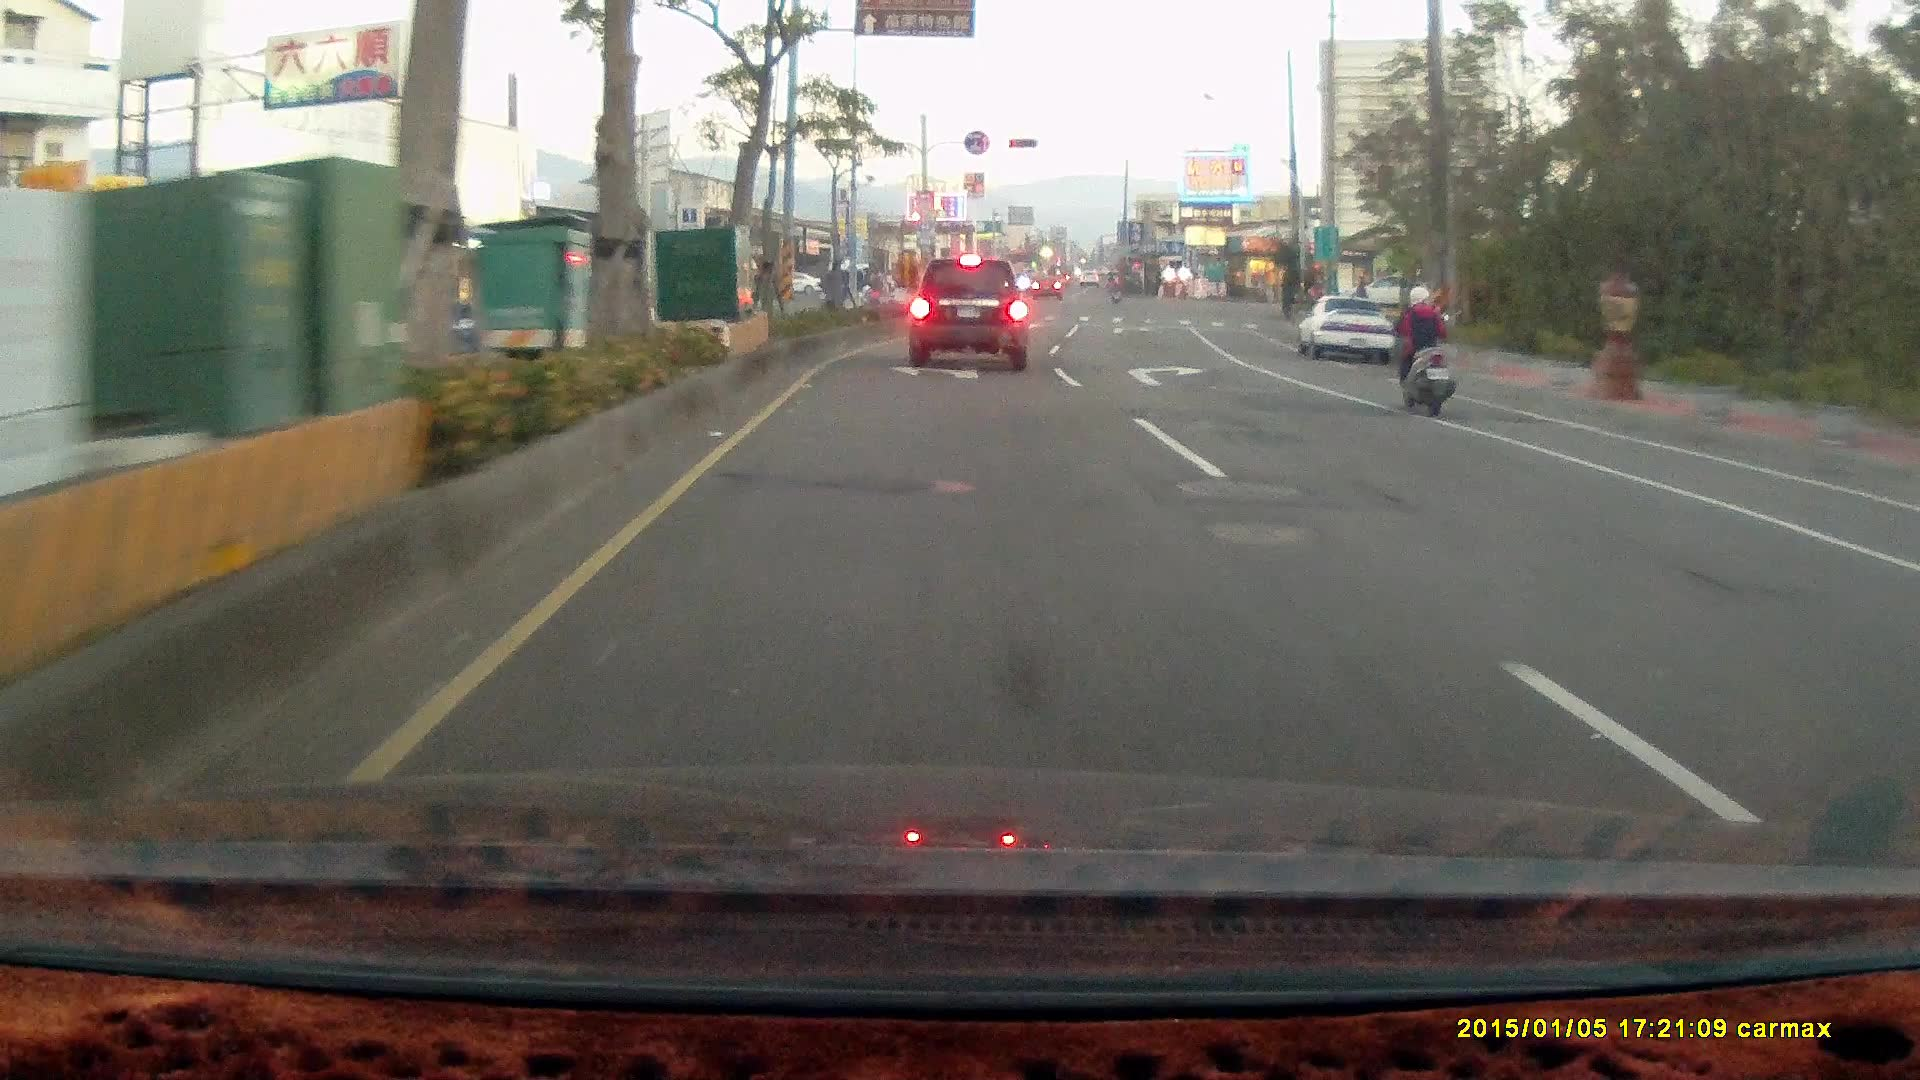rider: (1381, 279, 1457, 415)
vehicle: (906, 256, 1027, 373), (1896, 493, 1920, 836), (1294, 292, 1394, 365), (1300, 294, 1397, 368), (1883, 528, 1920, 690), (1337, 273, 1419, 309)
